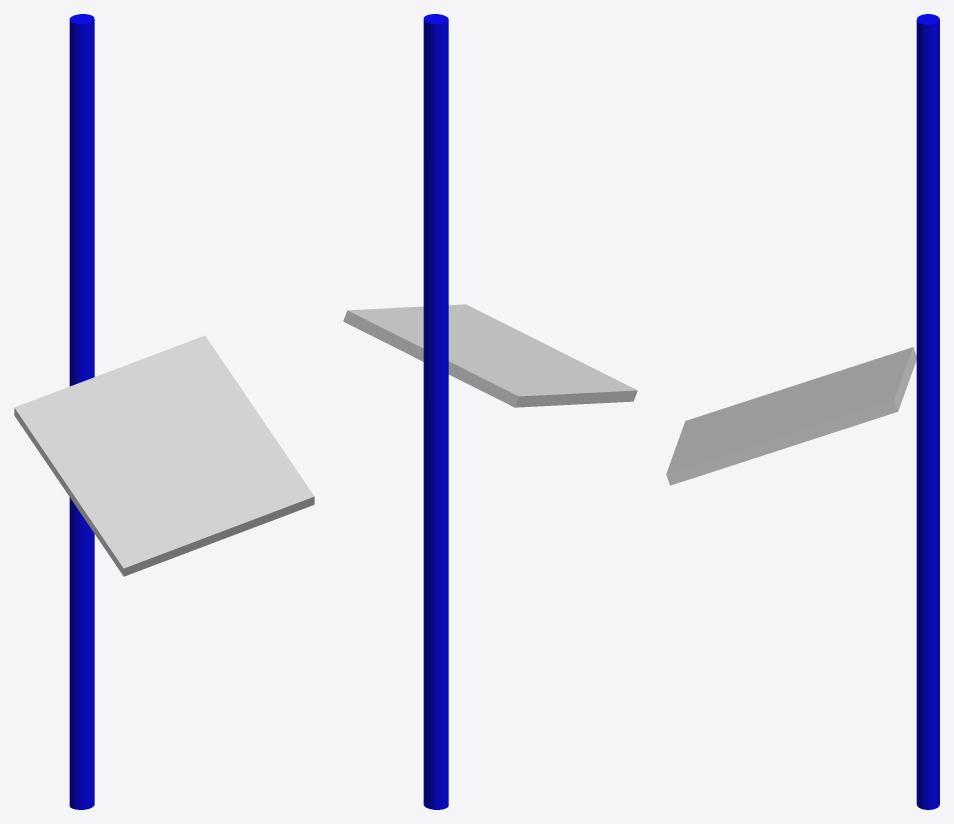
The model's file is material_setparam_emission.dae.
The picture shows the model from 3 angles, left to right: view 1: azimuth 30°, elevation 25°; view 2: azimuth 150°, elevation 25°; view 3: azimuth 270°, elevation 25°; orthographic projection.
Parts seen in each view (by area): view 1: pCube1, pCylinder2; view 2: pCylinder2, pCube1; view 3: pCylinder2, pCube1.
Boxes of the visible parts, x1=… form: pCube1: x1=14, y1=335, x2=314, y2=576; pCylinder2: x1=69, y1=14, x2=94, y2=809; pCylinder2: x1=423, y1=14, x2=448, y2=809; pCube1: x1=343, y1=304, x2=637, y2=407; pCylinder2: x1=916, y1=14, x2=939, y2=809; pCube1: x1=666, y1=347, x2=916, y2=485.
Bounding box in the file's own units: 201 × 802 × 253.
